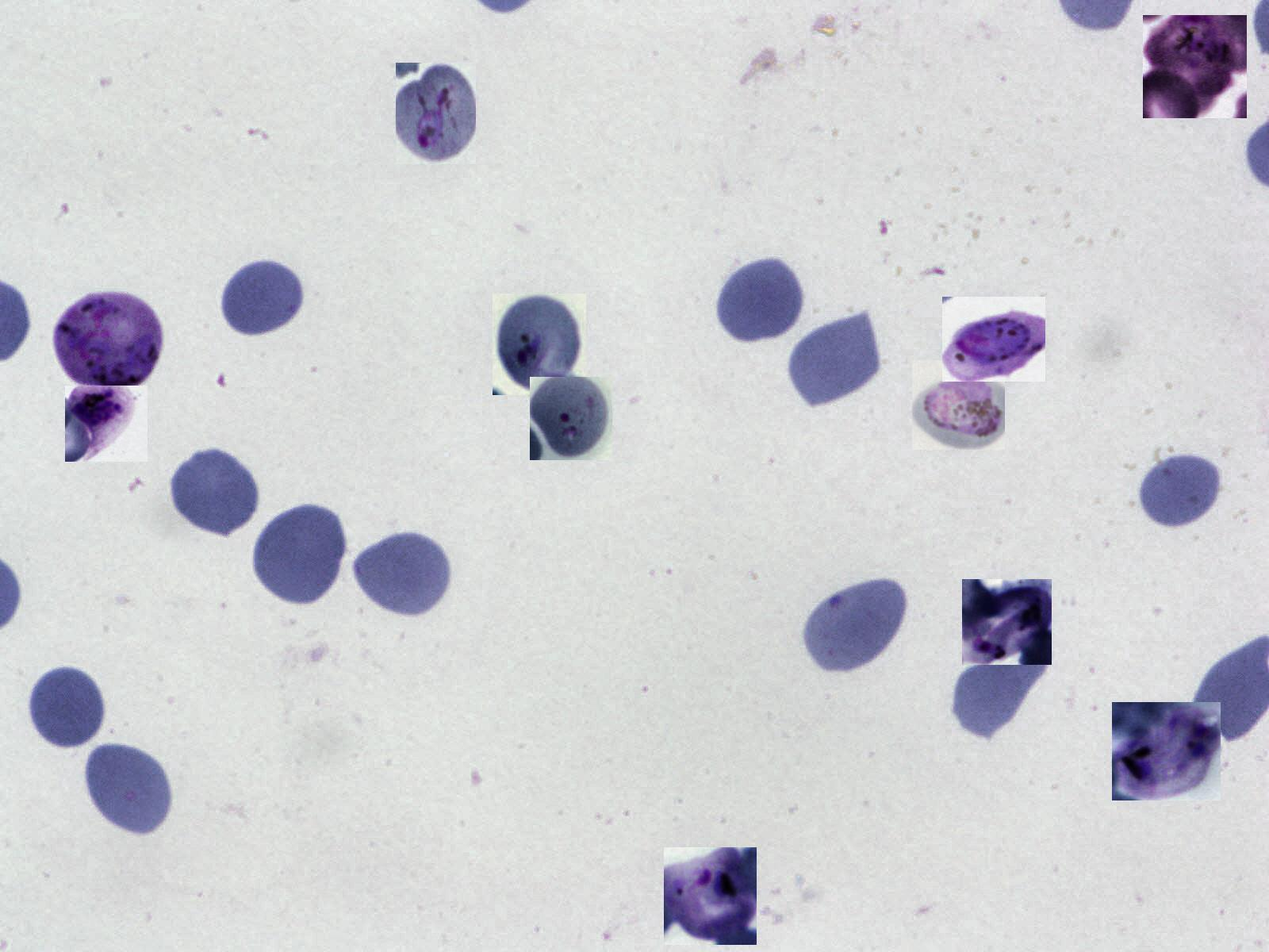Infected: (57, 288, 163, 391), (1143, 15, 1247, 118), (1112, 702, 1221, 800), (493, 294, 586, 395), (664, 847, 757, 945), (942, 298, 1045, 382), (912, 360, 1005, 450), (396, 63, 476, 164), (962, 579, 1052, 665), (530, 377, 612, 460), (65, 386, 148, 462)
Uninfected: (251, 499, 349, 611), (803, 574, 911, 674), (348, 528, 453, 620), (81, 739, 175, 841), (787, 309, 884, 406), (168, 444, 263, 539), (714, 253, 807, 347), (954, 655, 1049, 747), (1129, 452, 1231, 532), (219, 256, 308, 339), (27, 663, 107, 753)
